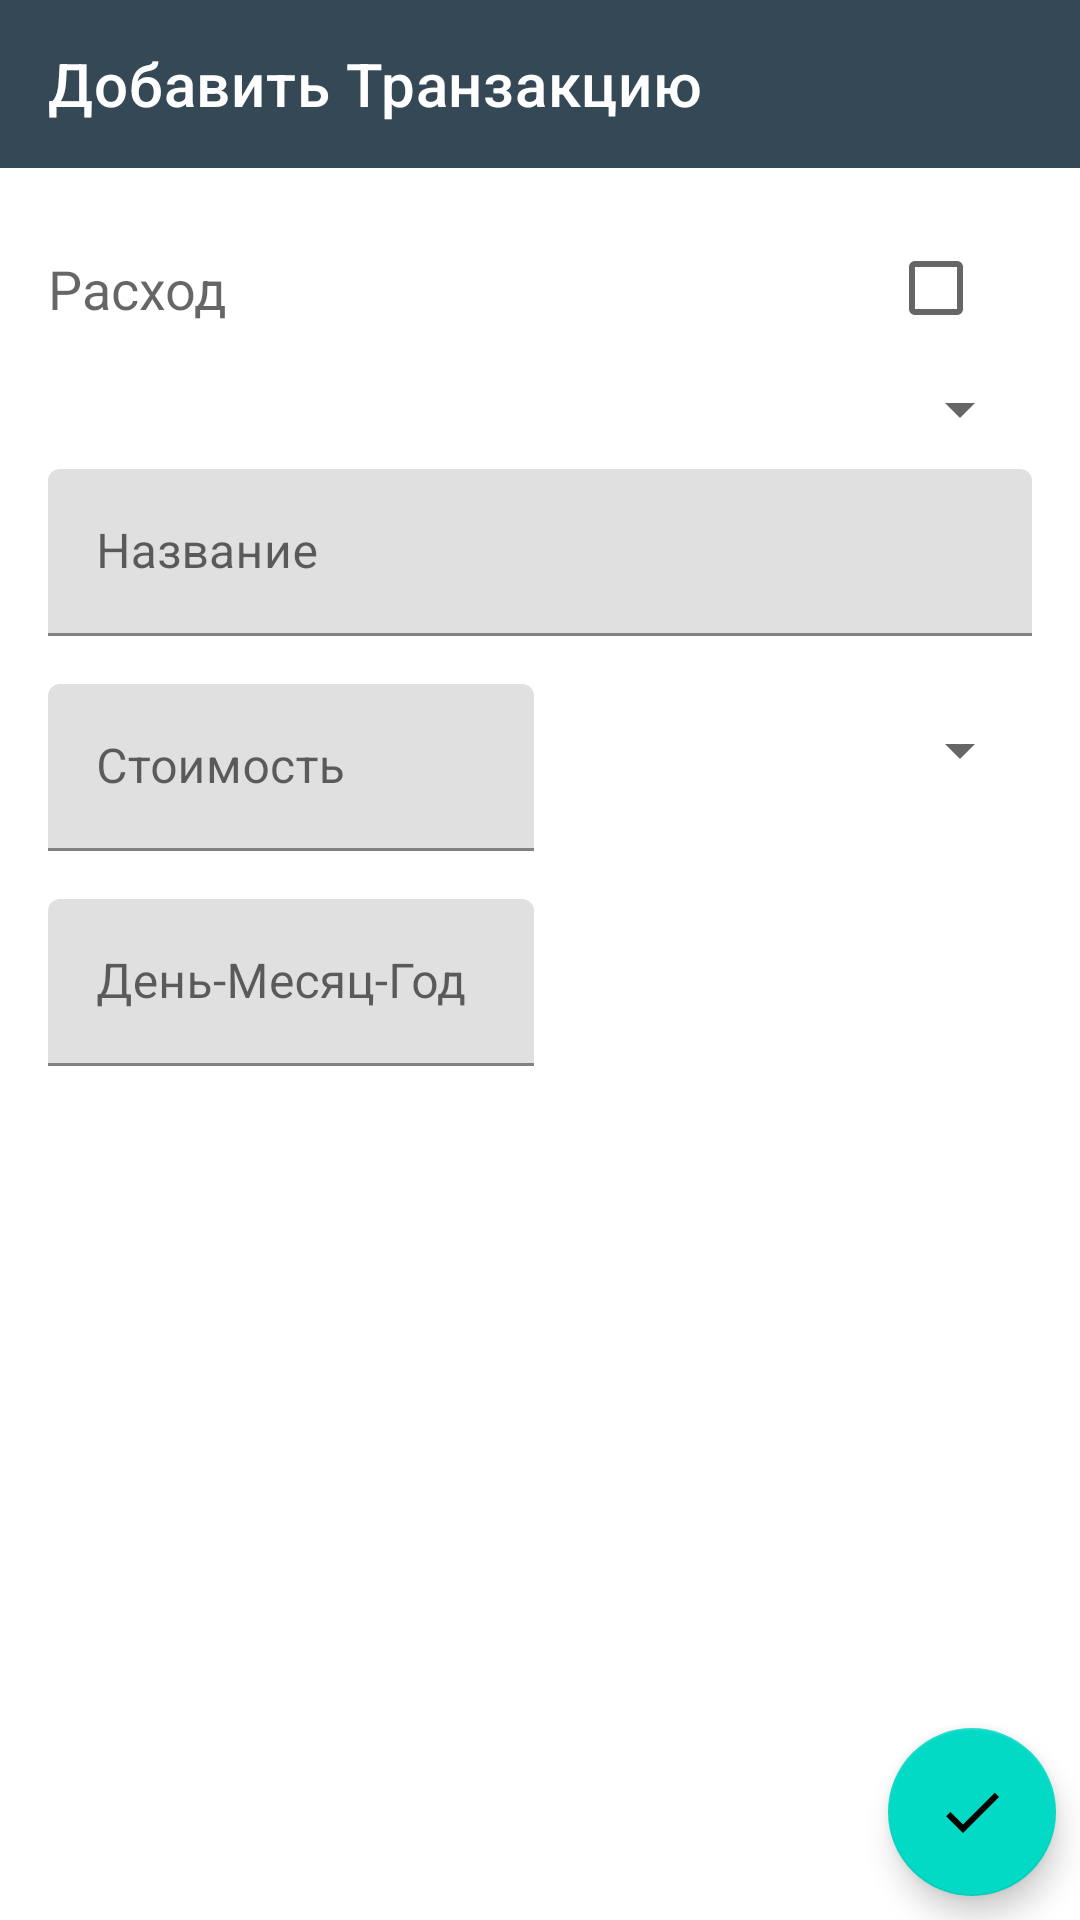

Screen size 1080 x 1920. Icon name, then its center in pixels as (x,y):
done: (972,1812)
